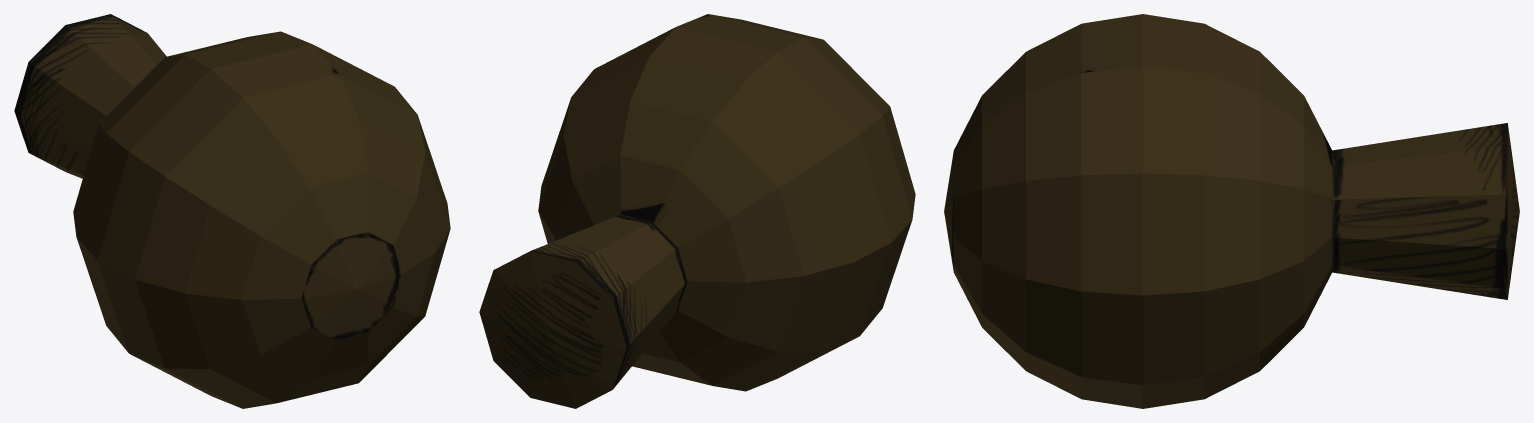
File: knob.fbx
The picture shows the model from 3 angles, left to right: view 1: azimuth 30°, elevation 25°; view 2: azimuth 150°, elevation 25°; view 3: azimuth 270°, elevation 25°; orthographic projection. The views are drawn at different scales.
Visible parts, largest first — view 1: pSphere1; view 2: pSphere1; view 3: pSphere1.
Part boxes in pixels (x1=…): pSphere1: x1=14, y1=14, x2=450, y2=408; pSphere1: x1=479, y1=14, x2=915, y2=408; pSphere1: x1=944, y1=14, x2=1519, y2=408.
Size of the model in its own units: 2 by 1.9 by 2.89.
